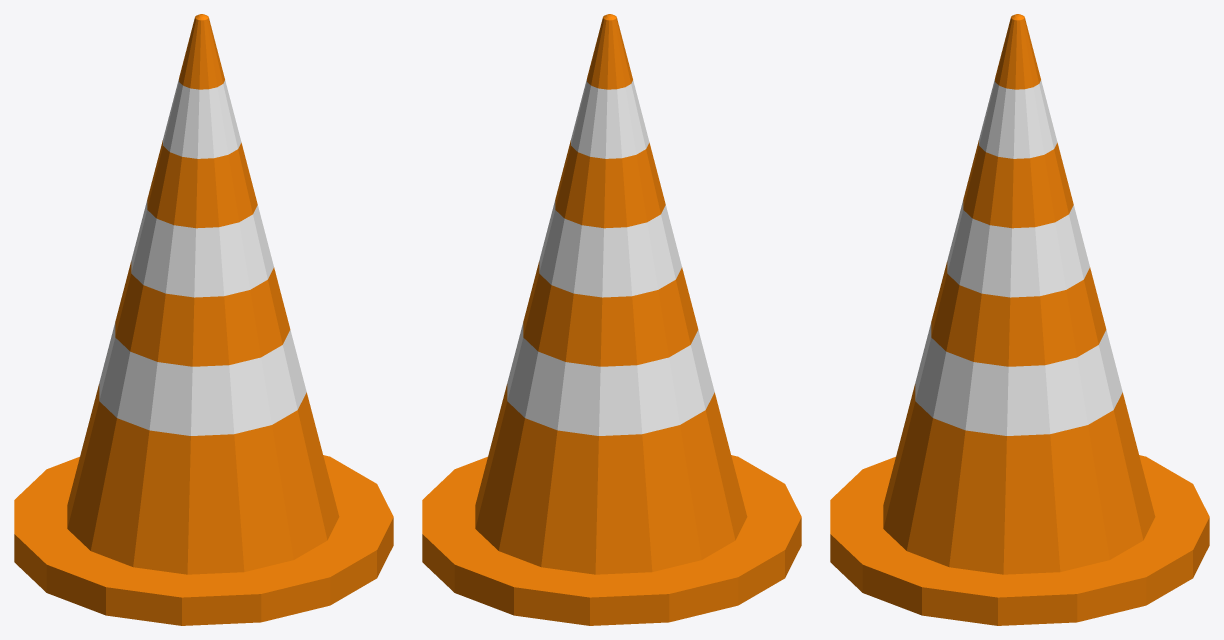
Rendered from road_cone.glb.
The picture shows the model from 3 angles, left to right: view 1: azimuth 30°, elevation 25°; view 2: azimuth 150°, elevation 25°; view 3: azimuth 270°, elevation 25°; orthographic projection.
Visible parts, largest first — view 1: Cylinder; view 2: Cylinder; view 3: Cylinder.
Part boxes in pixels (left/top/right/bottom): Cylinder: left=14, top=14, right=393, bottom=625; Cylinder: left=422, top=14, right=801, bottom=625; Cylinder: left=830, top=14, right=1209, bottom=625.
Bounding box in the file's own units: 5.97 × 9.15 × 5.93.
